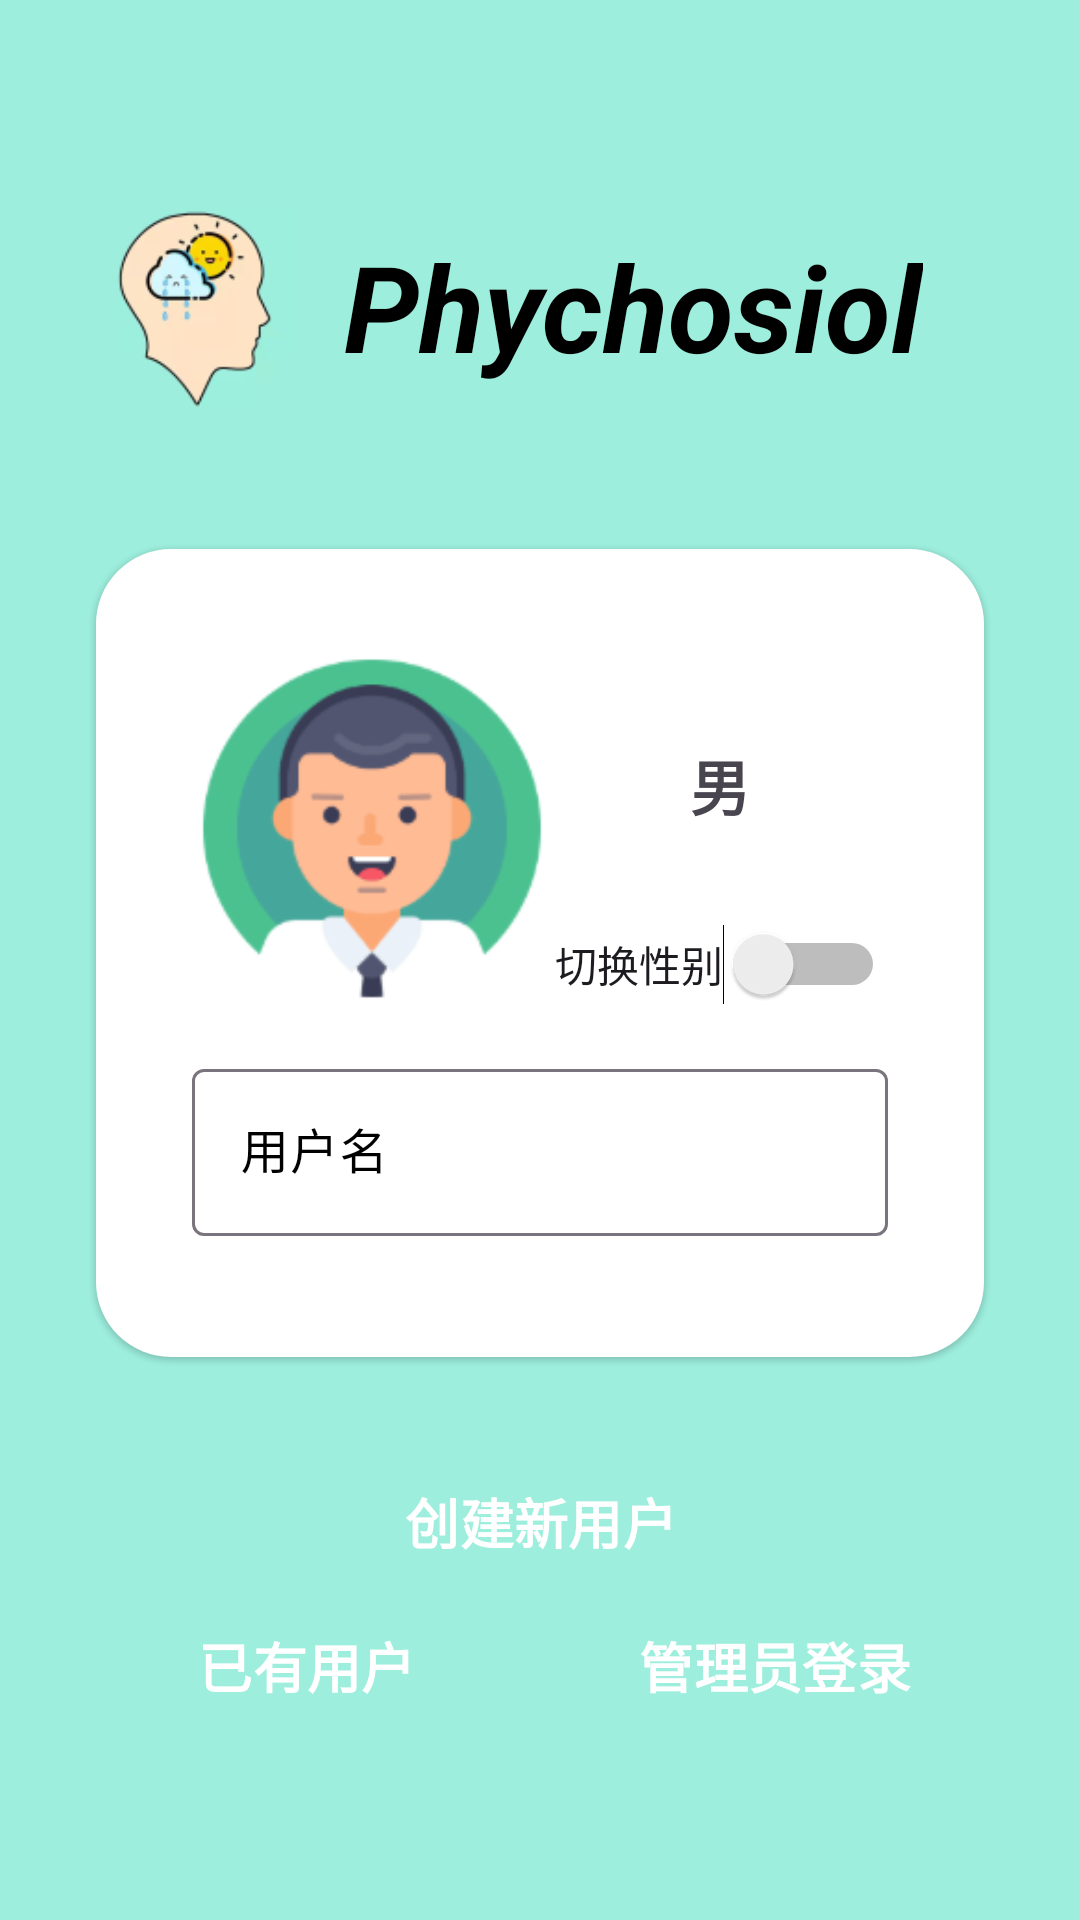

Named icons in this screenshot (1080×1920) and their bounding boxes, (x1, y1, x2, y2):
man: (202, 659, 542, 998)
